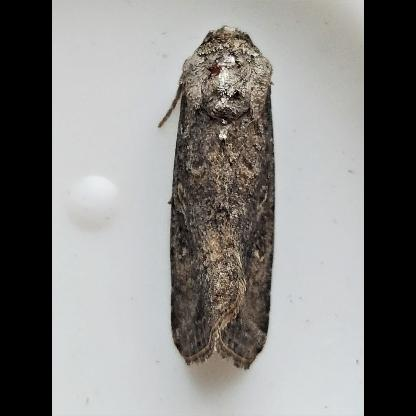Fall Armyworm Moth: (154, 22, 282, 374)
